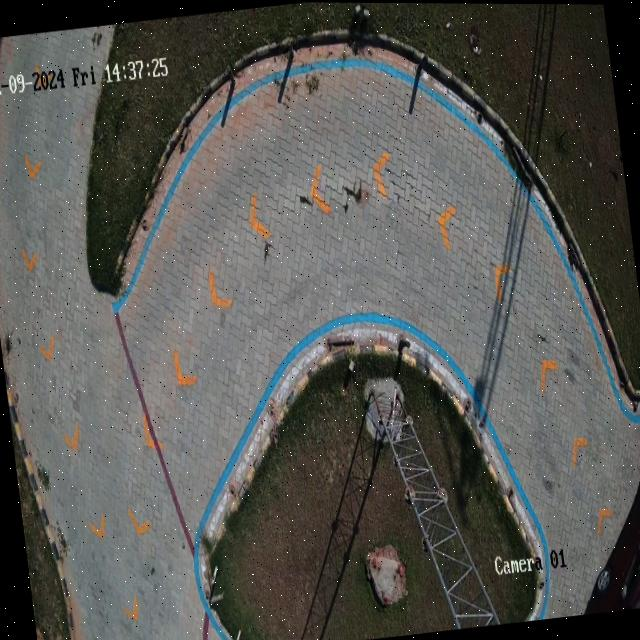car: (585, 481, 640, 613)
